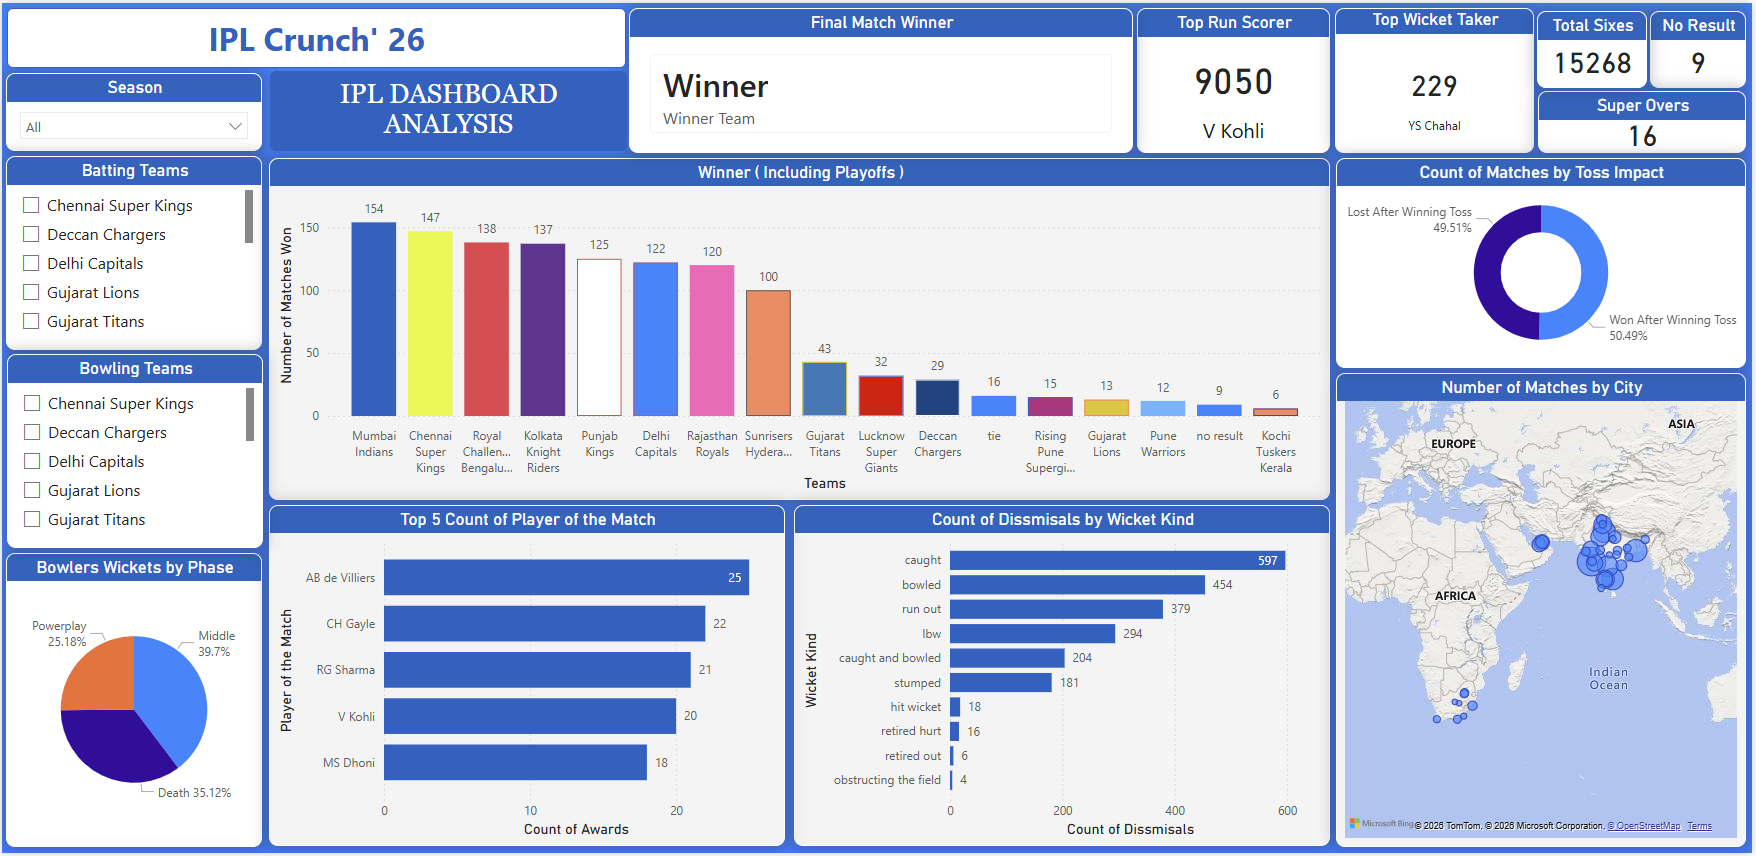

What the dashboard file says about the page in this screenshot:
{"tool":"powerbi","page":{"name":"Page 1","canvas":[1750,850],"ordinal":0},"visuals":[{"type":"slicer","title":"Season","fields":{"Values":["Final Matches Dates.Seasons"]},"box":[4,70,256,78],"z":0},{"type":"slicer","title":"Teams","fields":{"Values":["Venue Data.Teams"]},"box":[4,154,256,394],"z":1000},{"type":"columnChart","title":"Winner ( Including Playoffs )","fields":{"Category":["ipl_cleaned.winner"],"Y":["Count(IPL Matches.match_id)"]},"box":[266.7,155,1061.7,342],"z":2000},{"type":"kpi","title":"No Result","fields":{"TrendLine":["ipl_cleaned.winner"],"Indicator":["Count(ipl_cleaned.date (bins))"]},"box":[1648,8,96,77],"z":3000},{"type":"kpi","title":"Top Run Scorer","fields":{"Indicator":["IPL Matches.Total Runs"],"TrendLine":["IPL Matches.batter"]},"box":[1135,5,193,145],"z":4000},{"type":"kpi","title":"Top Wicket Taker","fields":{"TrendLine":["IPL Matches.bowler"]},"box":[1333,5,199,145],"z":5000},{"type":"pieChart","fields":{"Category":["ipl_cleaned.phase"],"Y":["Sum(IPL Matches.is_bowler_wicket)"]},"box":[4,556,256,288],"z":6000},{"type":"barChart","fields":{"Category":["ipl_cleaned.wicket_kind"],"Y":["Count(ipl_cleaned.wicket_player_out)"]},"box":[791.7,501.7,536.7,341.7],"z":7000},{"type":"kpi","title":"Super Overs","fields":{"Indicator":["IPL Matches.Total Super Overs"],"TrendLine":["IPL Matches.is_super_over"]},"box":[1536,88,208,62],"z":8000},{"type":"barChart","title":"Top 5 Count of Player of the Match","fields":{"Y":["Count(ipl_cleaned.date (bins))"],"Category":["ipl_cleaned.player_of_match"]},"box":[266.7,501.7,516.7,341.7],"z":9000},{"type":"map","title":"Number of Matches by City","fields":{"Category":["ipl_cleaned.city"],"Size":["Count(ipl_cleaned.date (bins))"]},"box":[1334,370,410,474],"z":10000},{"type":"cardVisual","title":"Final Match Winner","fields":{"Data":["IPL Matches.Winner_Team"]},"box":[627,5,504,145],"z":11000},{"type":"donutChart","fields":{"Category":["IPL Matches.Toss_Impact"],"Y":["Count(IPL Matches.match_id)"]},"box":[1334,155,410,210],"z":12000},{"type":"textbox","box":[5,5,619,60],"z":13000},{"type":"textbox","box":[267.5,67.5,357.5,80],"z":14000},{"type":"kpi","title":"Total Sixes","fields":{"Indicator":["IPL Matches.Total Sixes"],"TrendLine":["IPL Matches.runs_batter"]},"box":[1535,8,110,77],"z":15000}]}

Visuals, with their boxes in screenshot pixels (x1, y1, x2, y2), scaled from the page's 1750x850 canvas onto the 1756x856 screenshot:
"Season" slicer: {"x1": 4, "y1": 70, "x2": 261, "y2": 149}
"Teams" slicer: {"x1": 4, "y1": 155, "x2": 261, "y2": 552}
"Winner ( Including Playoffs )" columnChart: {"x1": 268, "y1": 156, "x2": 1333, "y2": 501}
"No Result" kpi: {"x1": 1654, "y1": 8, "x2": 1750, "y2": 86}
"Top Run Scorer" kpi: {"x1": 1139, "y1": 5, "x2": 1333, "y2": 151}
"Top Wicket Taker" kpi: {"x1": 1338, "y1": 5, "x2": 1537, "y2": 151}
pieChart - ipl_cleaned.phase x Sum(IPL Matches.is_bowler_wicket): {"x1": 4, "y1": 560, "x2": 261, "y2": 850}
barChart - ipl_cleaned.wicket_kind x Count(ipl_cleaned.wicket_player_out): {"x1": 794, "y1": 505, "x2": 1333, "y2": 849}
"Super Overs" kpi: {"x1": 1541, "y1": 89, "x2": 1750, "y2": 151}
"Top 5 Count of Player of the Match" barChart: {"x1": 268, "y1": 505, "x2": 786, "y2": 849}
"Number of Matches by City" map: {"x1": 1339, "y1": 373, "x2": 1750, "y2": 850}
"Final Match Winner" cardVisual: {"x1": 629, "y1": 5, "x2": 1135, "y2": 151}
donutChart - IPL Matches.Toss_Impact x Count(IPL Matches.match_id): {"x1": 1339, "y1": 156, "x2": 1750, "y2": 368}
textbox: {"x1": 5, "y1": 5, "x2": 626, "y2": 65}
textbox: {"x1": 268, "y1": 68, "x2": 627, "y2": 149}
"Total Sixes" kpi: {"x1": 1540, "y1": 8, "x2": 1651, "y2": 86}
